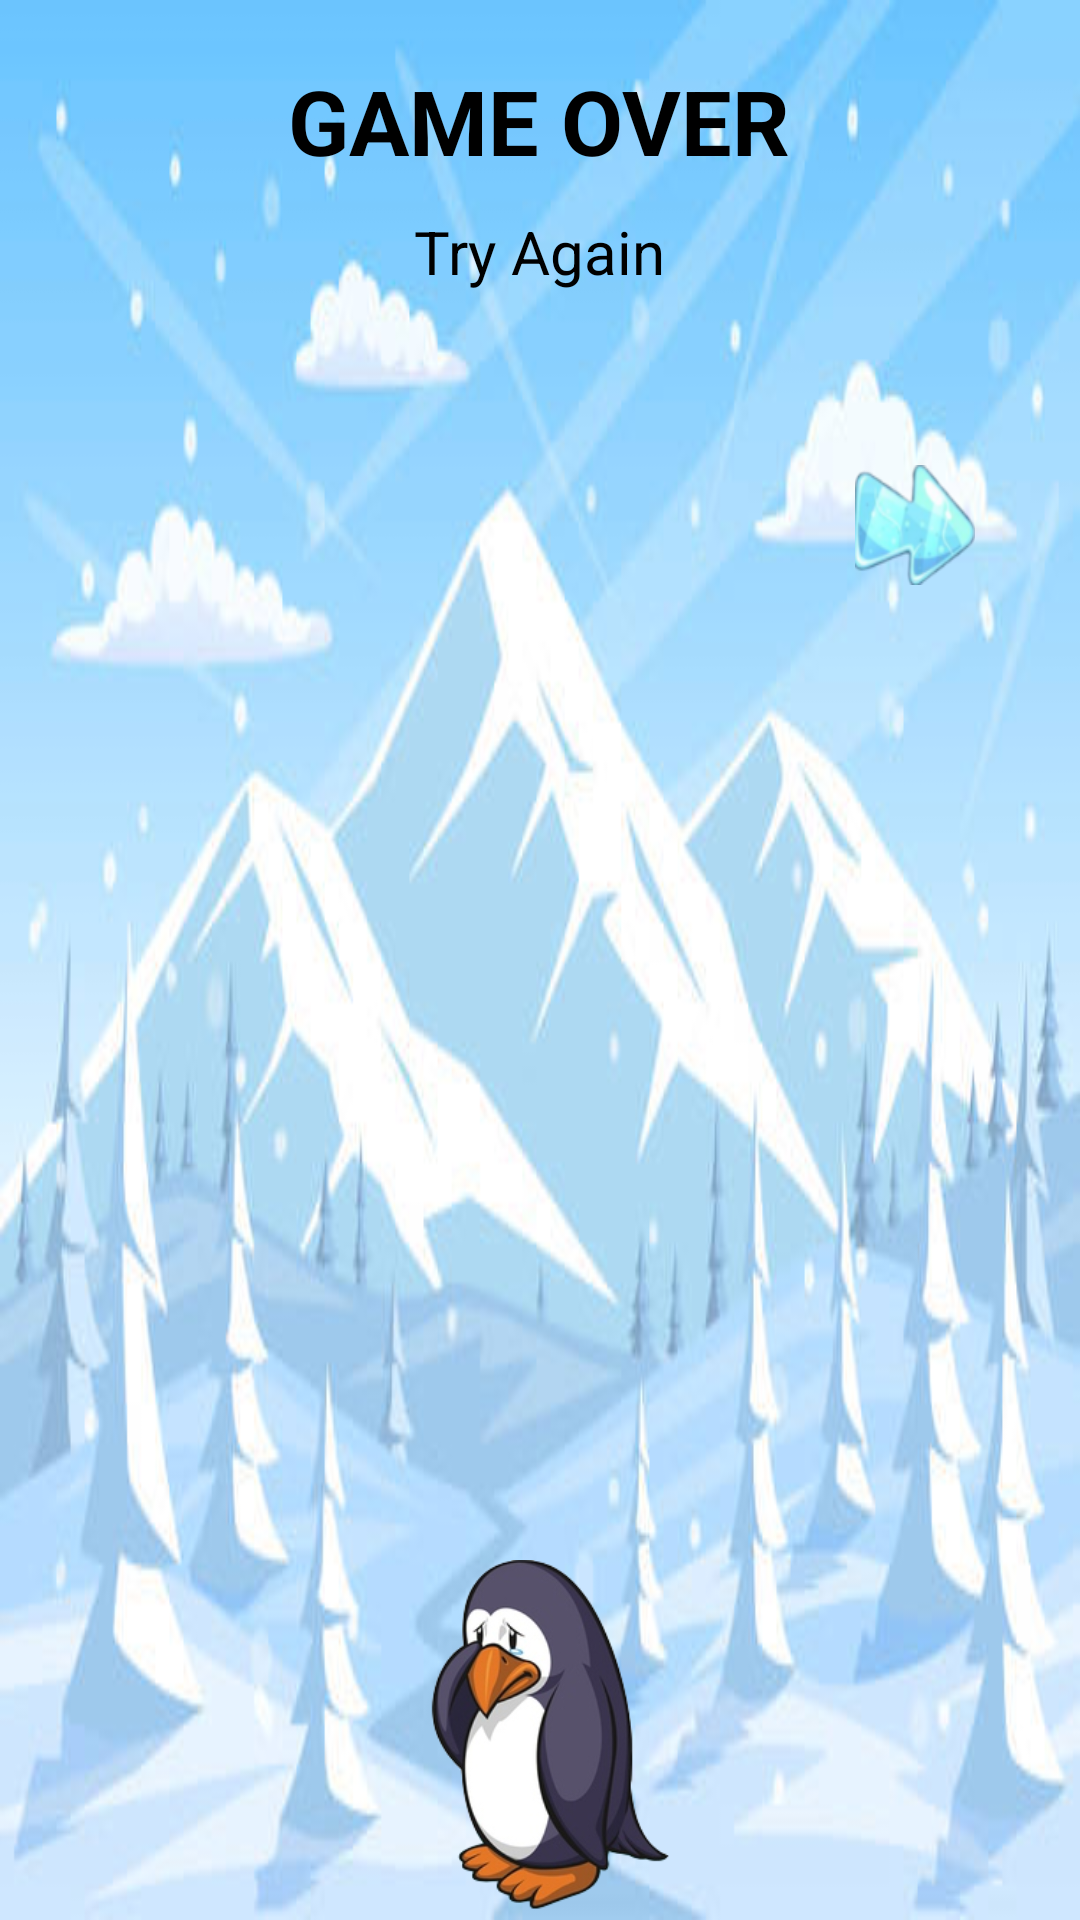

Point at icon controls on the screen. Image size 1080w x 1920h, points as (x,y).
arrow when finished level: (915,525)
